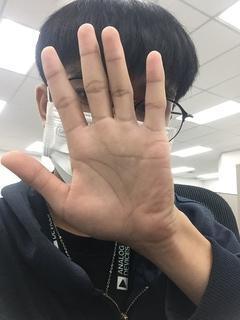hand: (0, 24, 175, 241)
